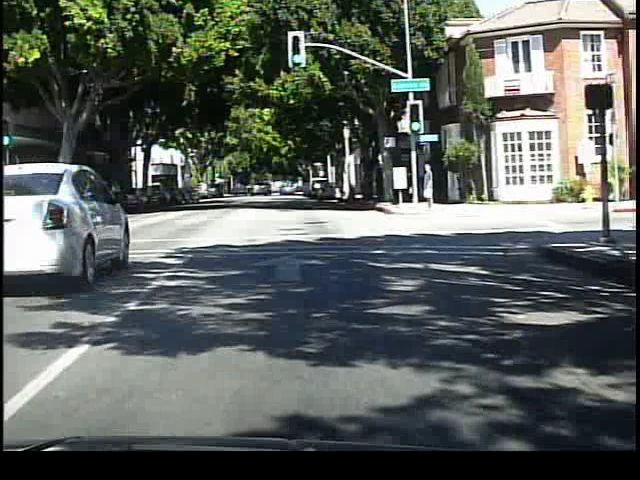person: (419, 158, 440, 214)
